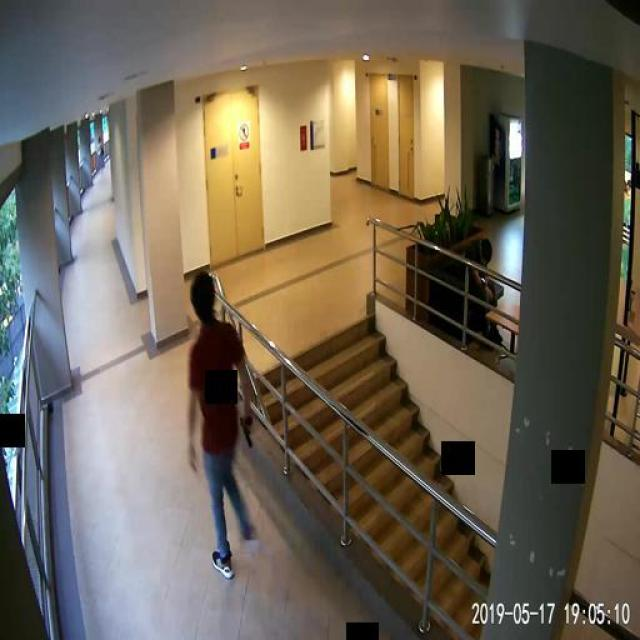gun: (239, 414, 251, 445)
